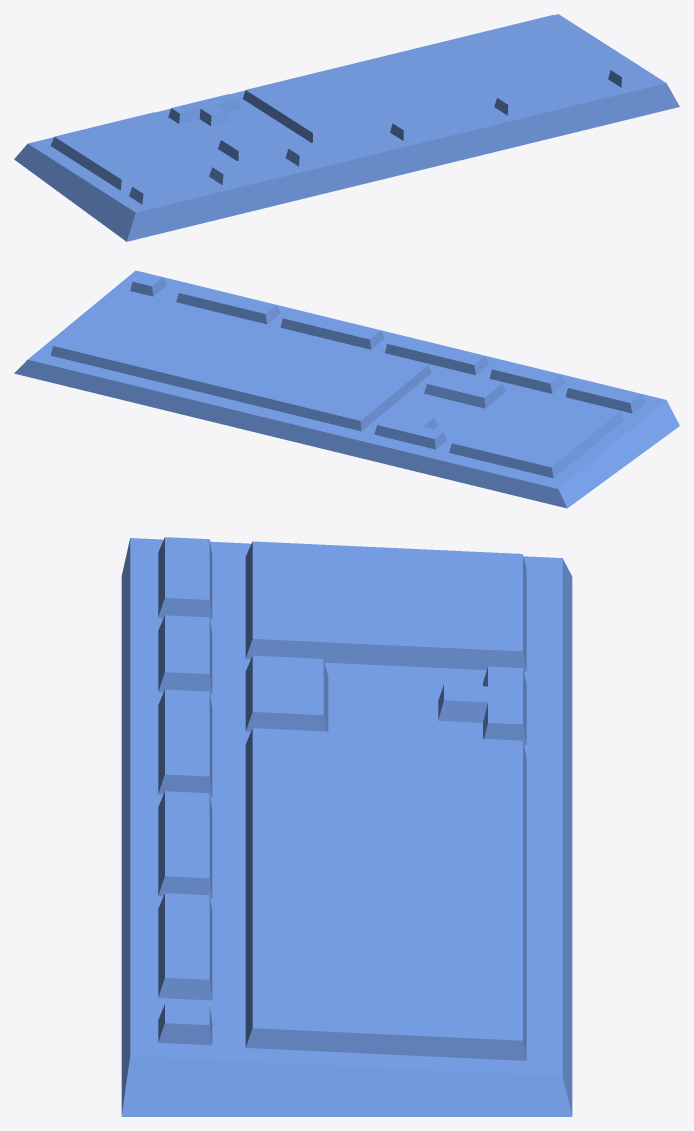
The model's file is Keyboard_01.glb.
3 renders of one model, top to bottom at view 1: azimuth 30°, elevation 25°; view 2: azimuth 150°, elevation 25°; view 3: azimuth 270°, elevation 25°, orthographic. The views are drawn at different scales.
Parts seen in each view (by area): view 1: Keyboard; view 2: Keyboard; view 3: Keyboard.
Part boxes in pixels (x1,y1,x2,y2): Keyboard: (14, 14, 679, 241); Keyboard: (14, 270, 679, 508); Keyboard: (121, 537, 572, 1116).
Bounding box in the file's own units: 0.45 × 0.0259 × 0.1588.
1 material, 1 textured.
